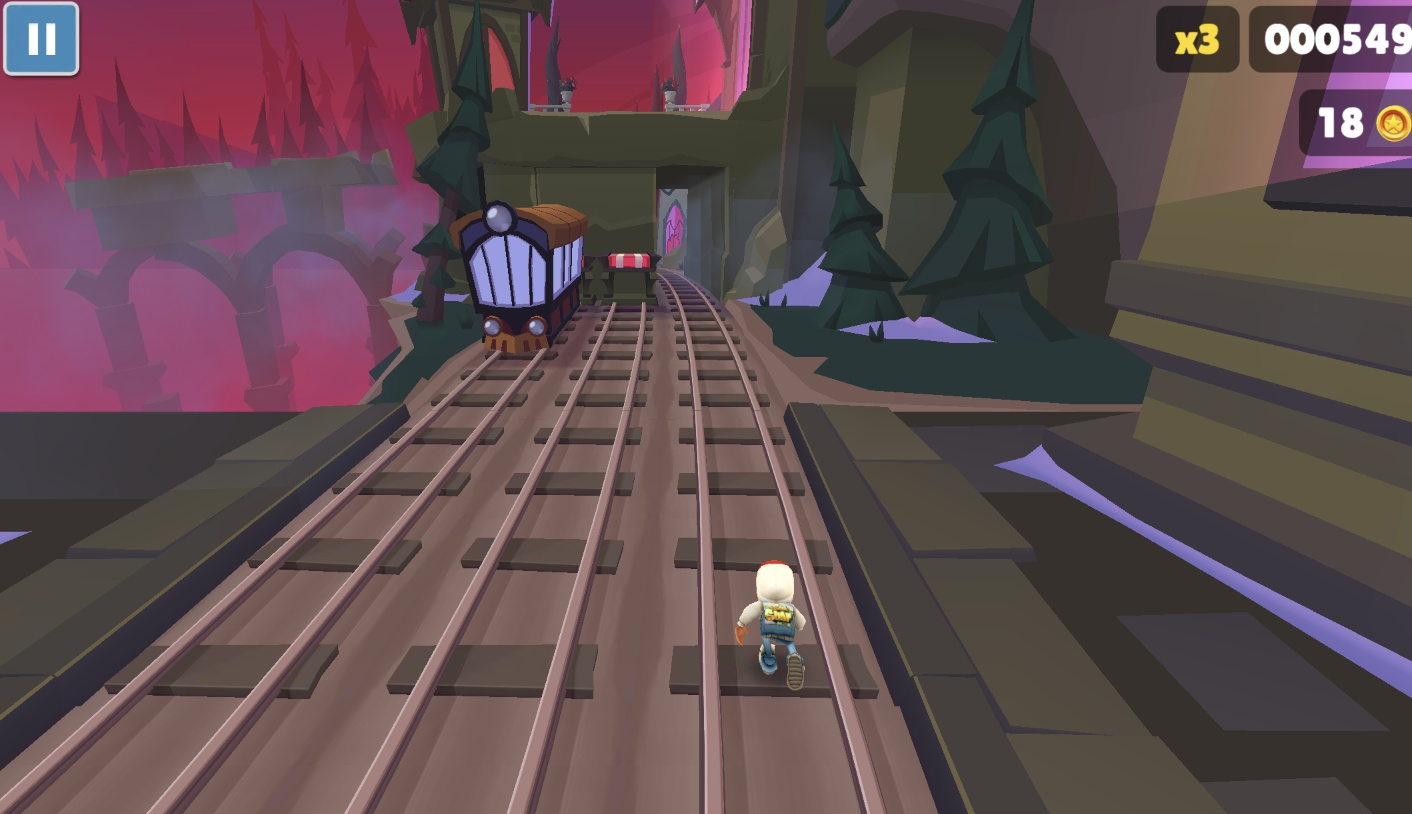ground_barrier: (594, 254, 662, 305), (580, 254, 603, 305)
train: (438, 201, 586, 362)
